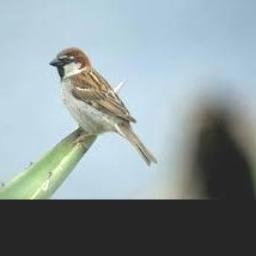Sparrow: (50, 46, 158, 165)
